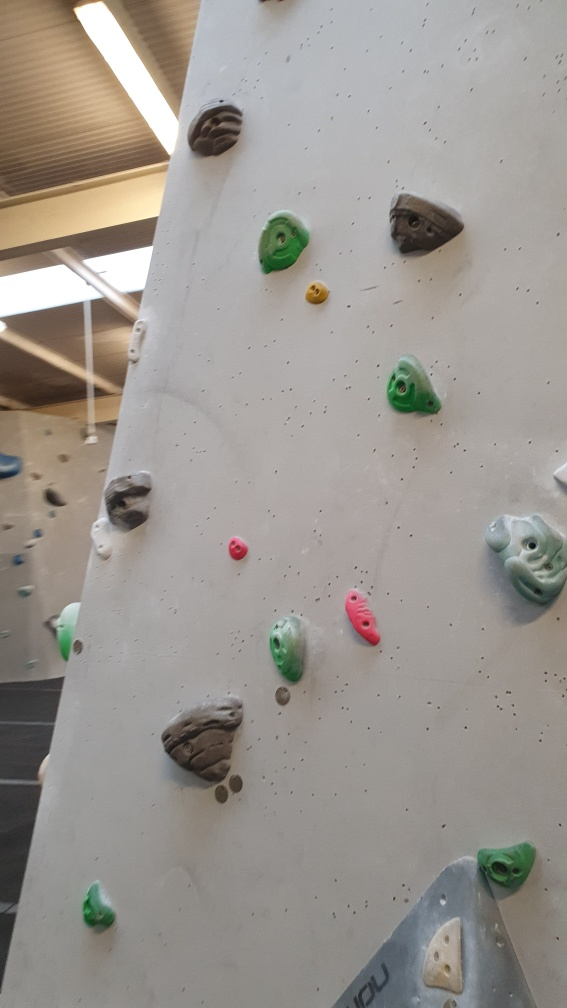Crimp: (417, 916, 468, 995), (343, 591, 385, 649), (126, 318, 152, 363), (92, 520, 114, 560)
Hand Start: (272, 684, 292, 710), (213, 782, 232, 807), (228, 771, 245, 793)
Jug: (486, 510, 566, 610), (158, 692, 244, 781), (386, 192, 468, 260), (383, 353, 444, 420), (258, 211, 313, 277), (186, 97, 244, 159), (480, 841, 542, 892), (102, 471, 154, 530), (270, 616, 310, 684)
Pinch: (301, 277, 334, 307), (224, 535, 246, 562)
